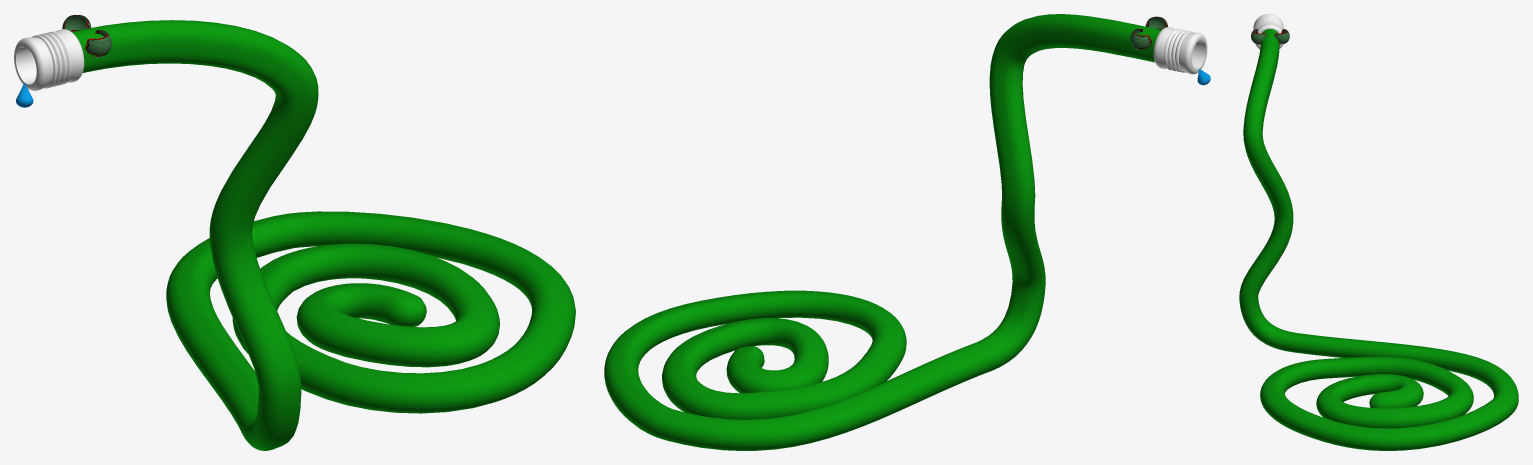
The model's file is snake.fbx.
3 views of the same model, side by side, from view 1: azimuth 30°, elevation 25°; view 2: azimuth 150°, elevation 25°; view 3: azimuth 270°, elevation 25° (orthographic). The views are drawn at different scales.
Visible parts, largest first — view 1: body, nose; view 2: body, nose; view 3: body, nose.
Boxes of the visible parts, left/top/right/bottom form: body: left=72, top=20, right=575, bottom=450; nose: left=14, top=29, right=84, bottom=90; body: left=604, top=14, right=1161, bottom=450; nose: left=1153, top=27, right=1207, bottom=74; body: left=1239, top=28, right=1518, bottom=450; nose: left=1253, top=14, right=1283, bottom=49.
Bounding box in the file's own units: 134 × 95.76 × 89.65.
